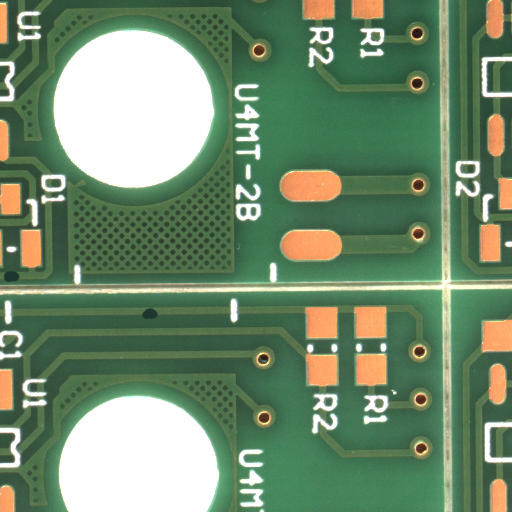Mouse_bite: (11, 276, 28, 289), (150, 313, 167, 326)
